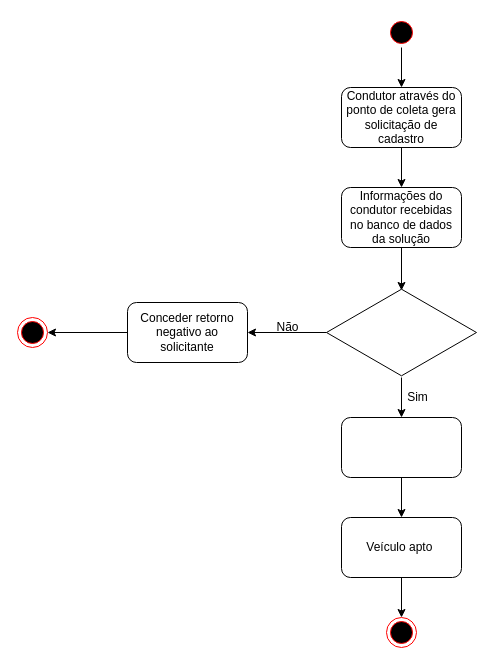
This 494x665 diagram has some shape labels left out. Here are the shapes that lost their labels. From the top down, the box of each, then its label:
(326, 286, 476, 378): Dados aceitos por autoridades de trânsito?
(340, 416, 462, 478): Cadastro efetivado
